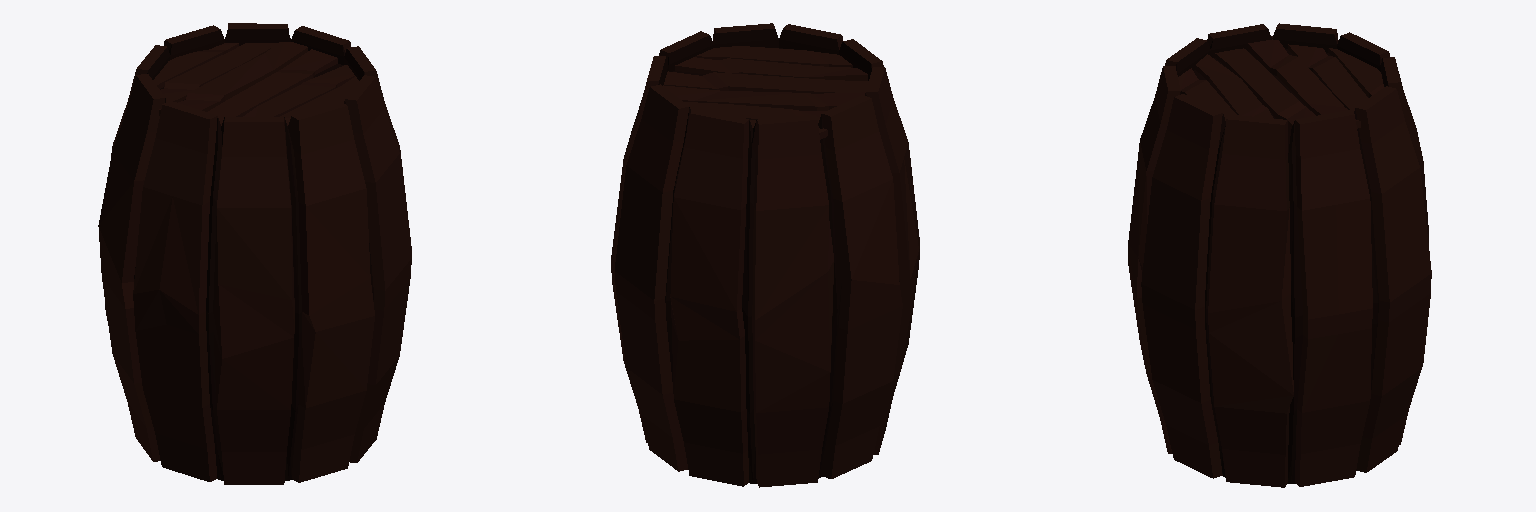
Rendered from Barrel2.obj.
3 renders of one model, left to right at view 1: azimuth 30°, elevation 25°; view 2: azimuth 150°, elevation 25°; view 3: azimuth 270°, elevation 25°, orthographic.
Parts seen in each view (by area): view 1: Barrel_Cylinder.029; view 2: Barrel_Cylinder.029; view 3: Barrel_Cylinder.029.
Part boxes in pixels (left/top/right/bottom): Barrel_Cylinder.029: left=98, top=23, right=411, bottom=484; Barrel_Cylinder.029: left=611, top=23, right=919, bottom=487; Barrel_Cylinder.029: left=1128, top=23, right=1431, bottom=487.
Size of the model in its own units: 1.03 by 1.35 by 1.02.